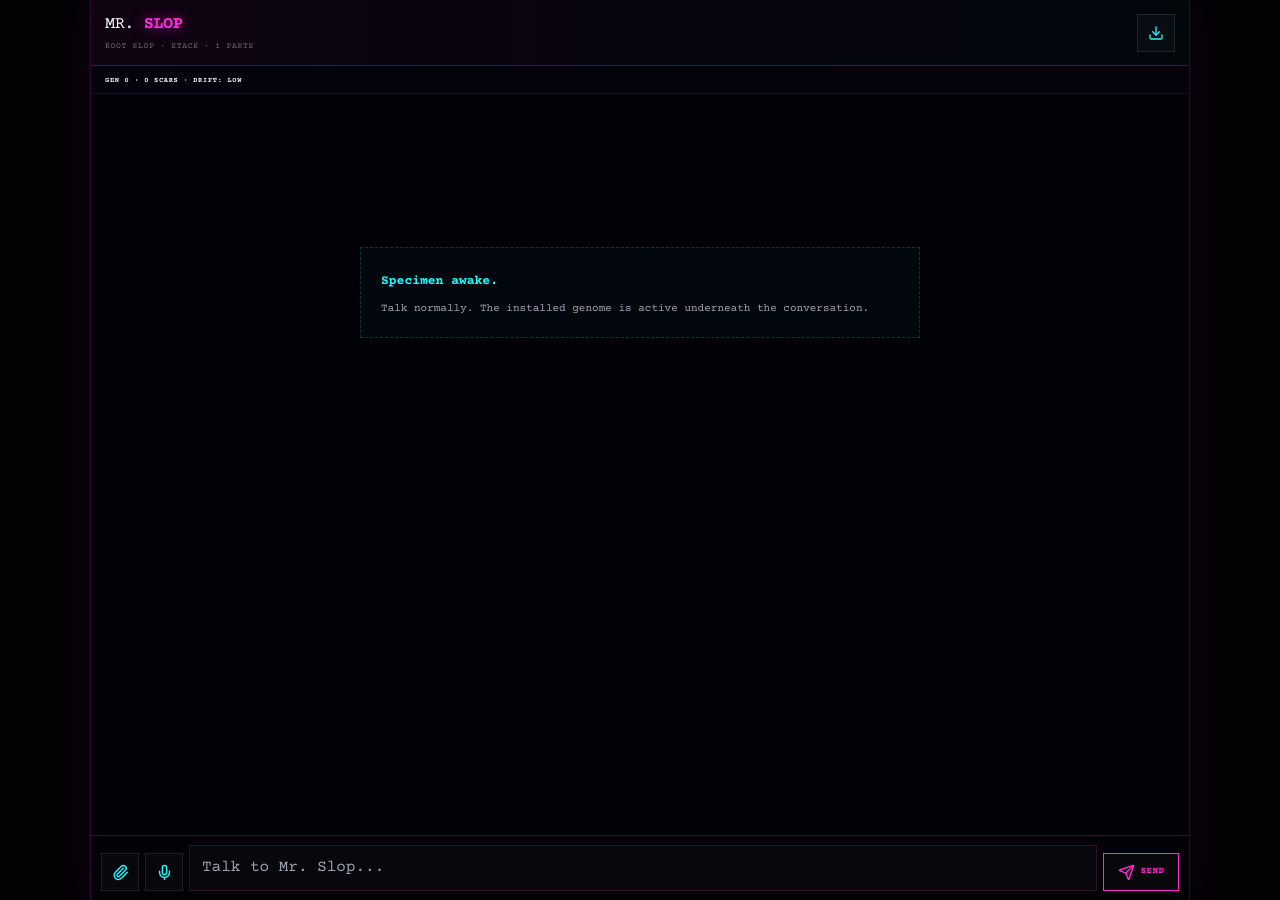
Test: Round 2B fork UI › shows blocking fork approval and does not fork before approval
The width and height of the screenshot is (1280, 900).
Type "fork this thing" into the text box with placeholder "Talk to Mr. Slop..." at (643, 868), box [189,845,1097,891]
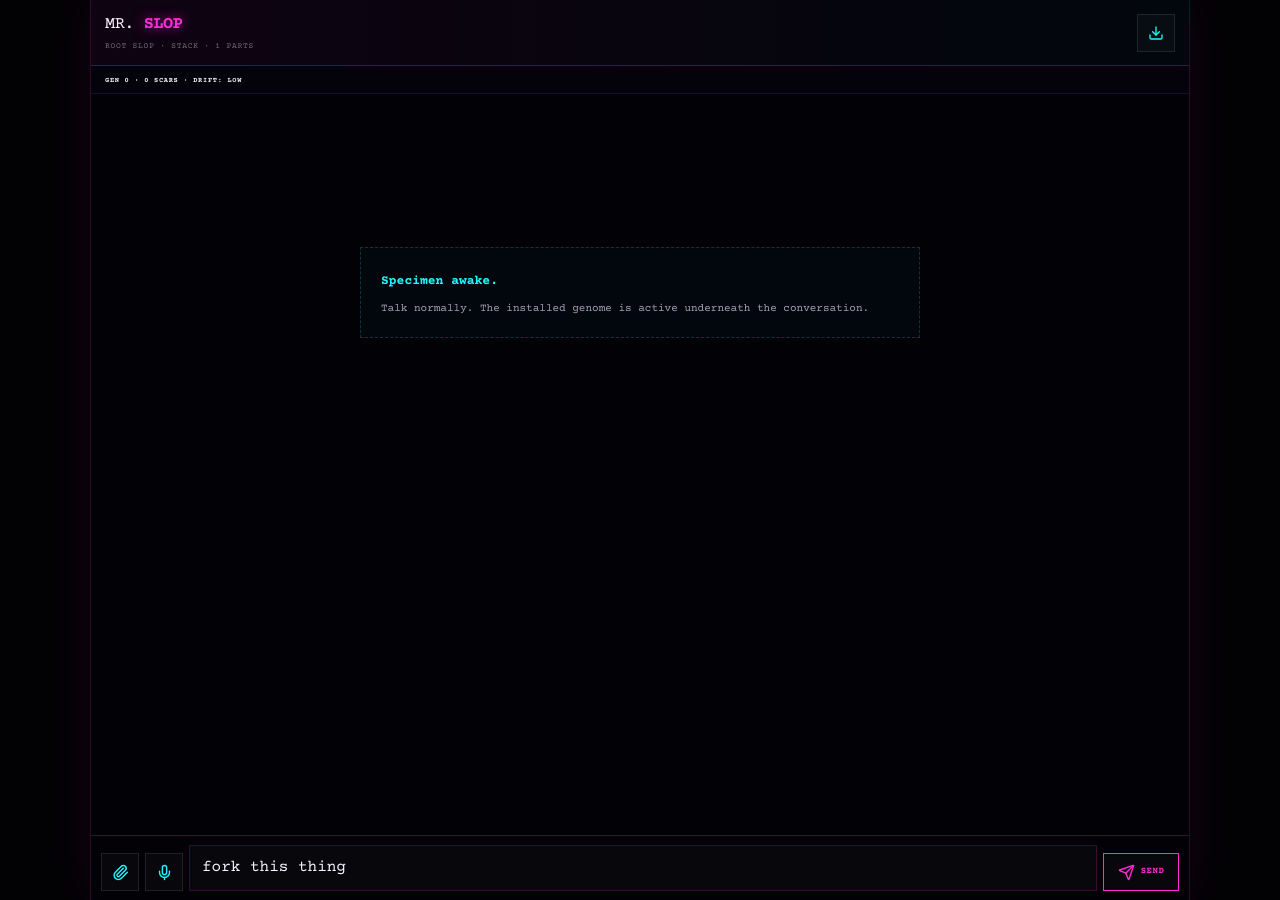
Click the button "SEND" at (1141, 872), box [1103,853,1179,891]
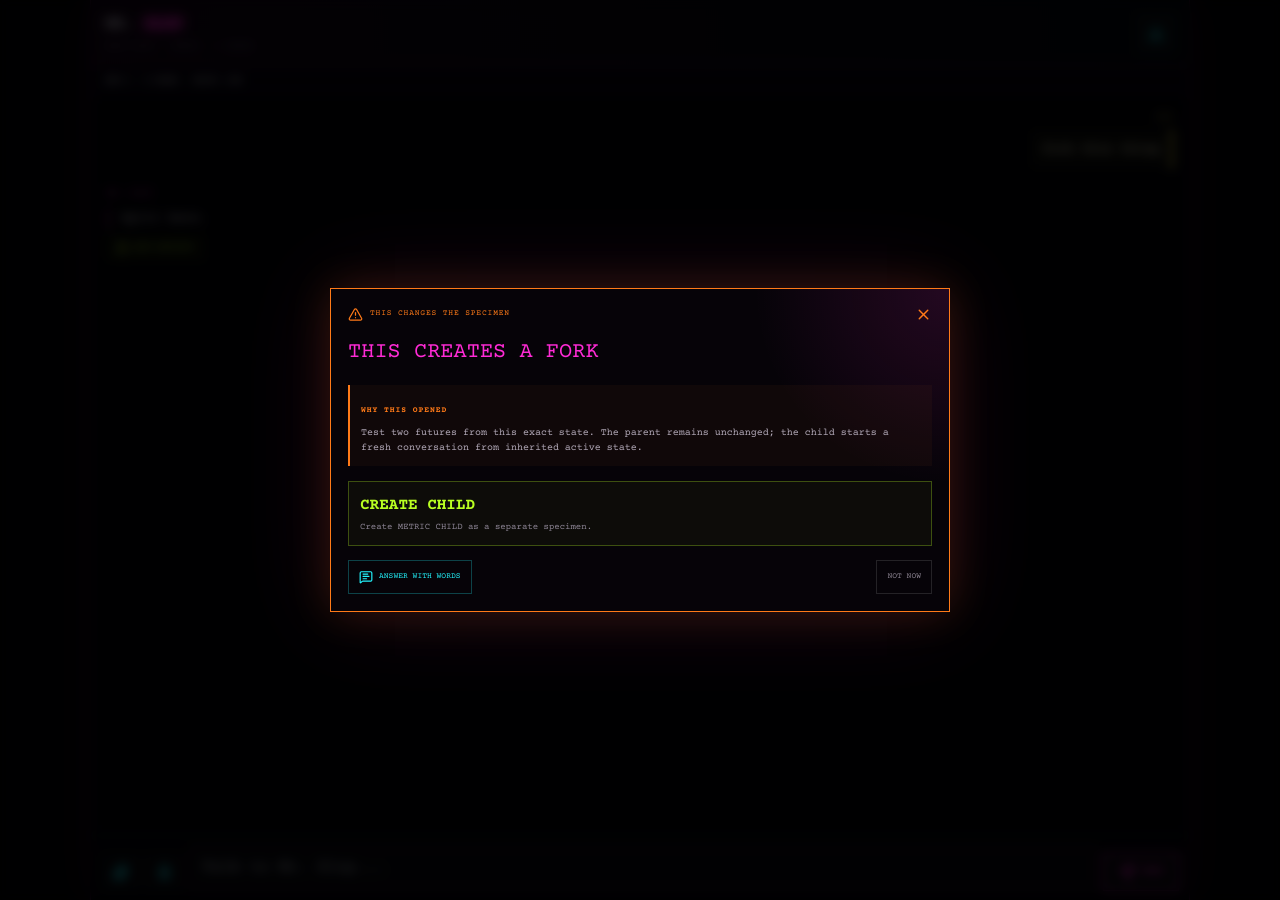
expect the dialog "THIS CREATES A FORK" shows "parent remains unchanged": met, box [361,427,889,453]
expect the dialog "THIS CREATES A FORK" shows "fresh conversation": met, box [361,427,889,453]
